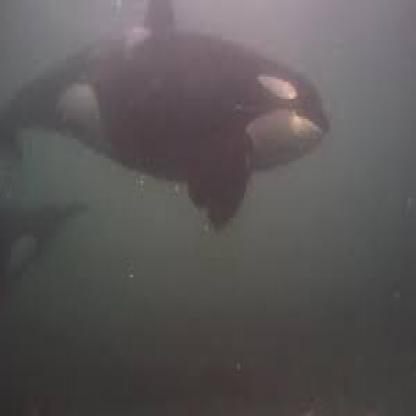killer_whale: (0, 15, 337, 270)
